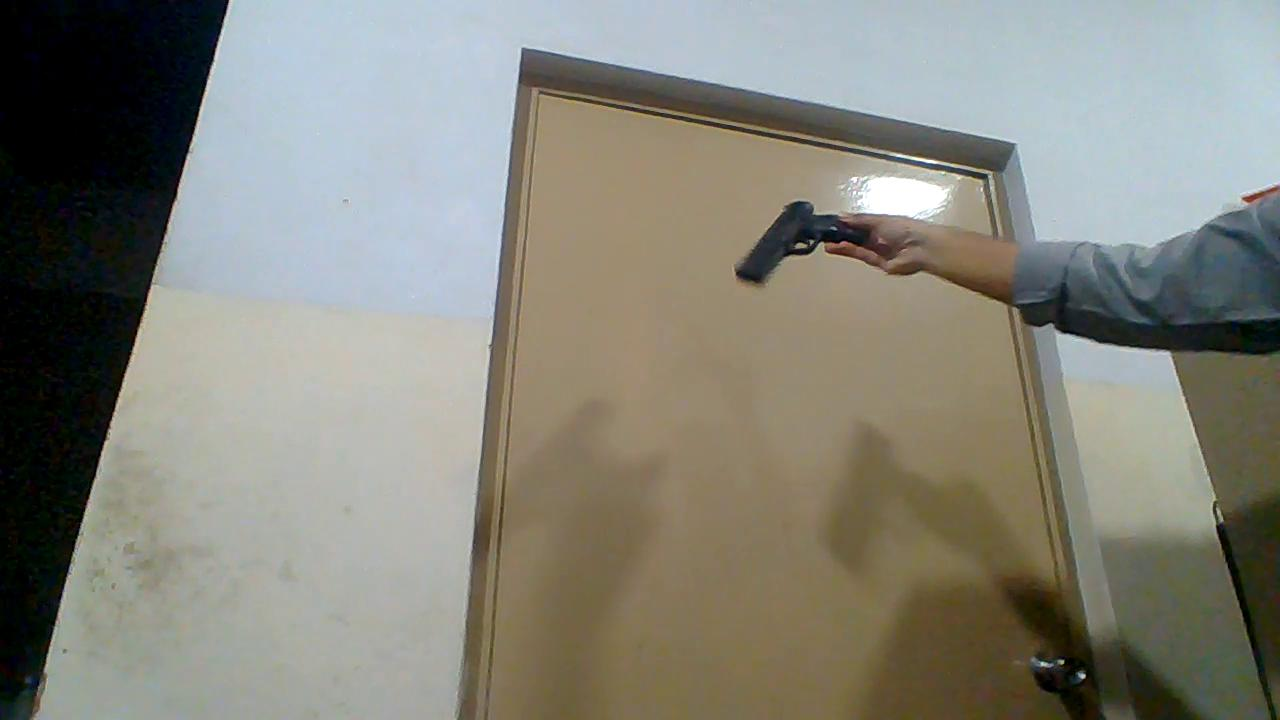weapon: (733, 197, 877, 290)
